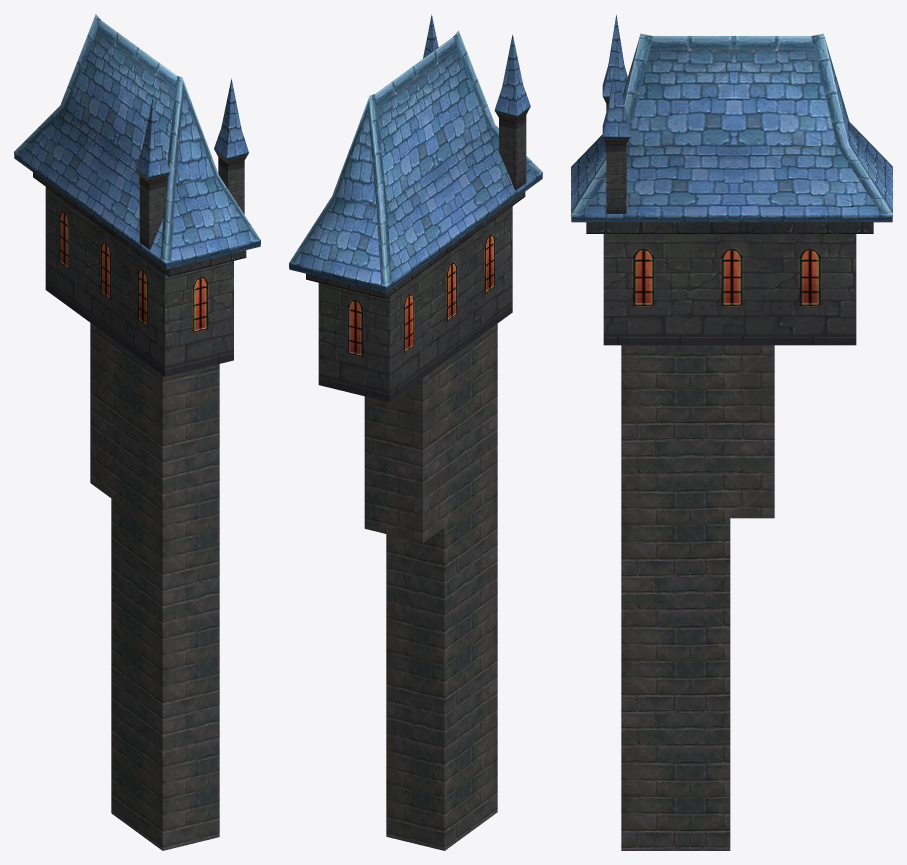
The model's file is Tower_Level03.FBX.
3 views of the same model, side by side, from view 1: azimuth 30°, elevation 25°; view 2: azimuth 150°, elevation 25°; view 3: azimuth 270°, elevation 25° (orthographic). The views are drawn at different scales.
Visible parts, largest first — view 1: Tower_Level03; view 2: Tower_Level03; view 3: Tower_Level03.
Boxes of the visible parts, x1,y1,x2,y2 form: Tower_Level03: [14, 14, 260, 850]; Tower_Level03: [289, 14, 542, 850]; Tower_Level03: [571, 15, 892, 850].
Size of the model in its own units: 126 by 905 by 329.
